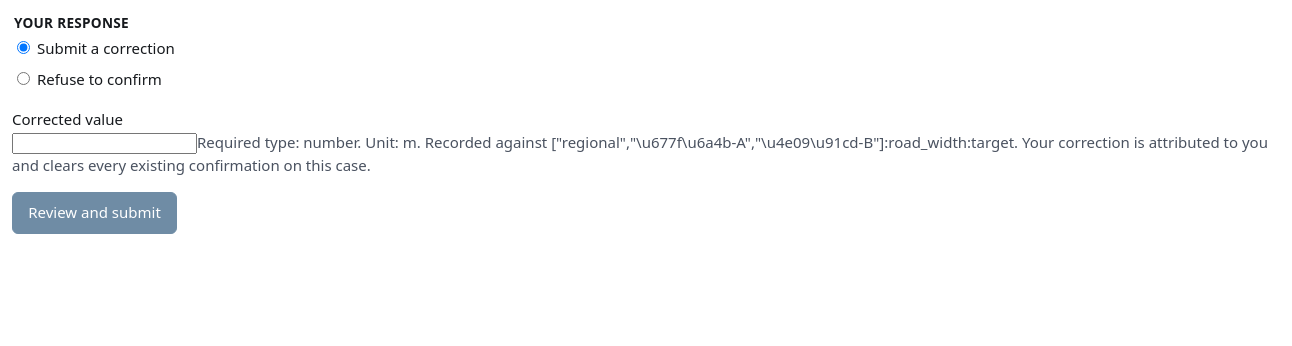
Test case: ResponseForm › sends the server's subject name verbatim instead of rebuilding it
In the field labelled "Corrected value": (104, 143) [12,133,197,154], type "12"
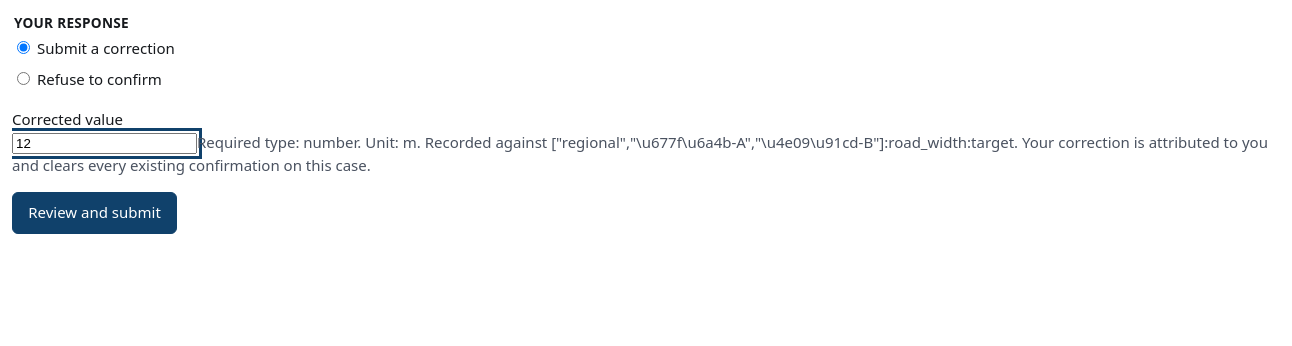
Click the button "Review and submit": (94, 213) [12,192,177,234]
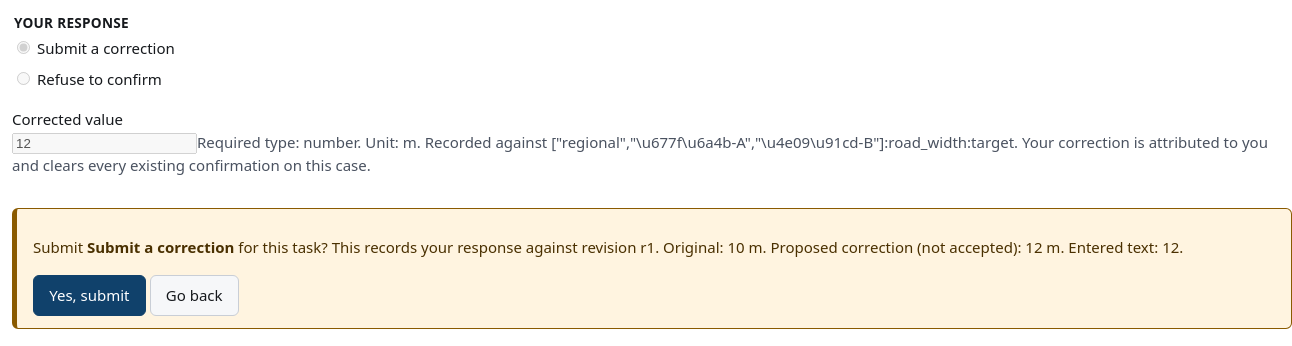
Click the button "Yes, submit": (89, 295) [33,275,146,316]
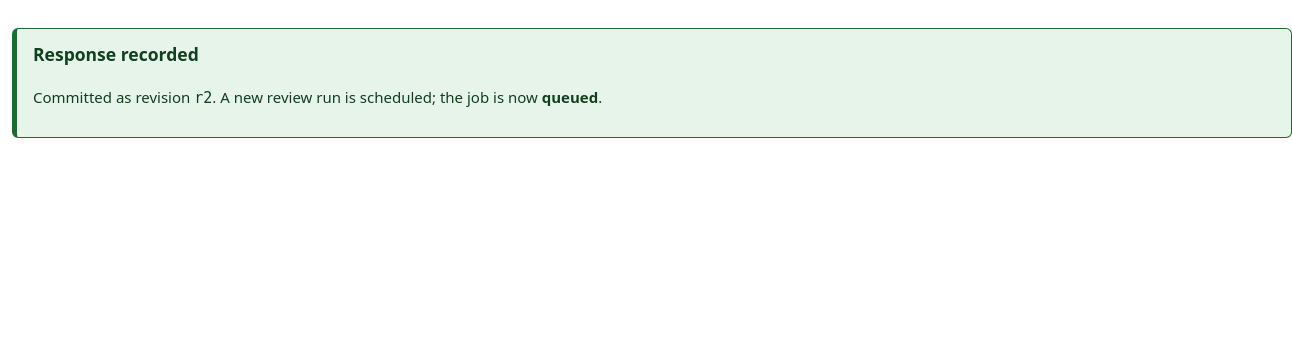
Check: the message is shown, box [12,28,1291,138]
